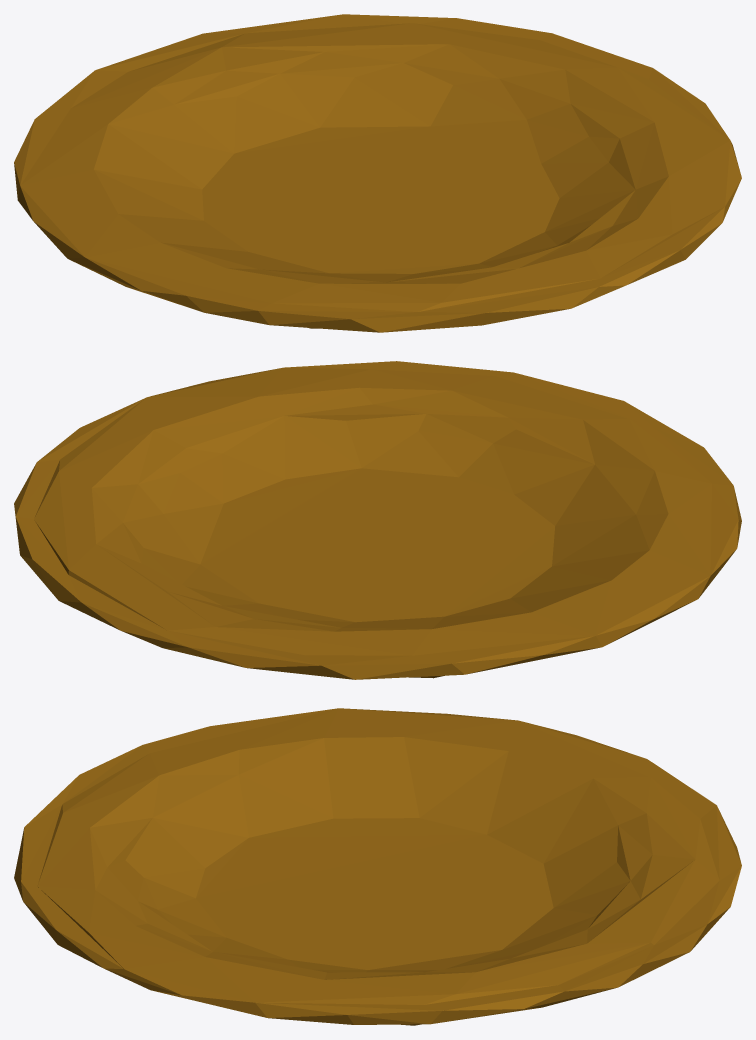
Rendered from MDungeons_Plate_Large_01.FBX.
3 renders of one model, top to bottom at view 1: azimuth 30°, elevation 25°; view 2: azimuth 150°, elevation 25°; view 3: azimuth 270°, elevation 25°, orthographic.
Visible parts, largest first — view 1: MDungeons_Plate_Large_01_LOD0; view 2: MDungeons_Plate_Large_01_LOD0; view 3: MDungeons_Plate_Large_01_LOD0.
Part boxes in pixels (x1,y1,x2,y2): MDungeons_Plate_Large_01_LOD0: [14, 14, 741, 332]; MDungeons_Plate_Large_01_LOD0: [14, 361, 741, 679]; MDungeons_Plate_Large_01_LOD0: [14, 708, 741, 1025].
Size of what is drawn, in the model's own units: 0.934 by 0.1103 by 0.938.
